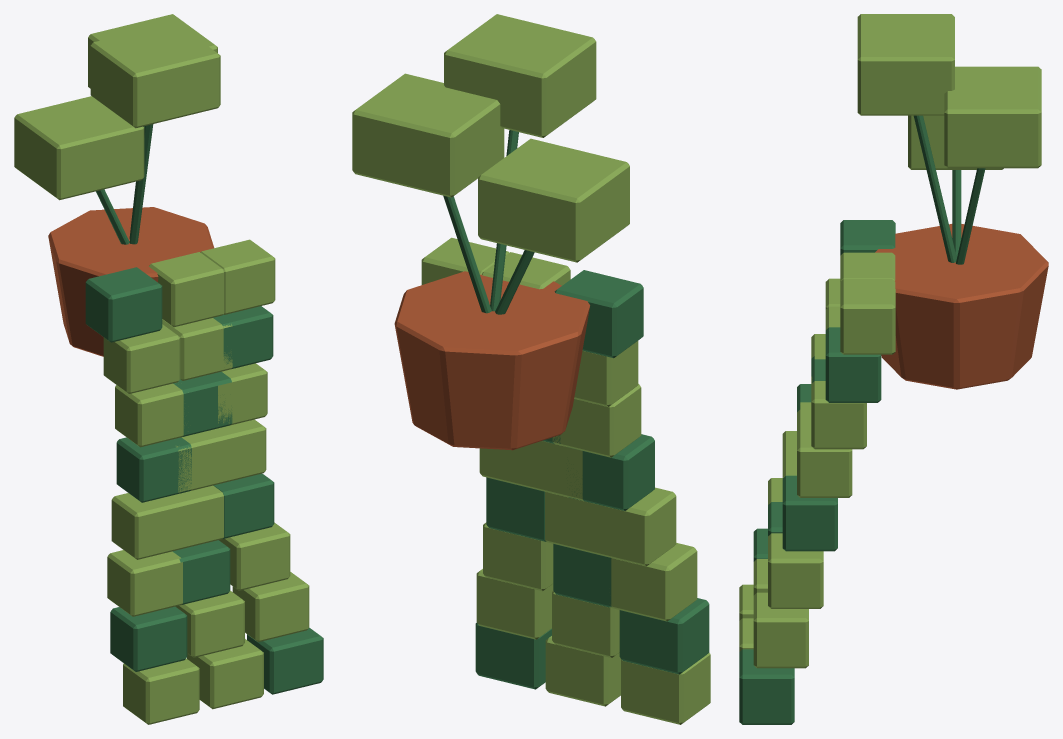
File: trailing_ivy.glb
3 renders of one model, left to right at view 1: azimuth 30°, elevation 25°; view 2: azimuth 150°, elevation 25°; view 3: azimuth 270°, elevation 25°, orthographic. The views are drawn at different scales.
Parts seen in each view (by area): view 1: trailing_ivy__body__leaf2, trailing_ivy__body__green, trailing_ivy__body__tile; view 2: trailing_ivy__body__leaf2, trailing_ivy__body__tile, trailing_ivy__body__green; view 3: trailing_ivy__body__leaf2, trailing_ivy__body__tile, trailing_ivy__body__green.
Boxes of the visible parts, x1=… form: trailing_ivy__body__leaf2: x1=14, y1=14, x2=309, y2=724; trailing_ivy__body__green: x1=85, y1=124, x2=323, y2=694; trailing_ivy__body__tile: x1=48, y1=207, x2=214, y2=356; trailing_ivy__body__leaf2: x1=352, y1=14, x2=710, y2=724; trailing_ivy__body__tile: x1=394, y1=271, x2=590, y2=450; trailing_ivy__body__green: x1=443, y1=130, x2=709, y2=689; trailing_ivy__body__leaf2: x1=739, y1=14, x2=1041, y2=668; trailing_ivy__body__tile: x1=875, y1=224, x2=1048, y2=389; trailing_ivy__body__green: x1=739, y1=115, x2=985, y2=724.
Bounding box in the file's own units: 0.4184 × 1.28 × 0.5577.
